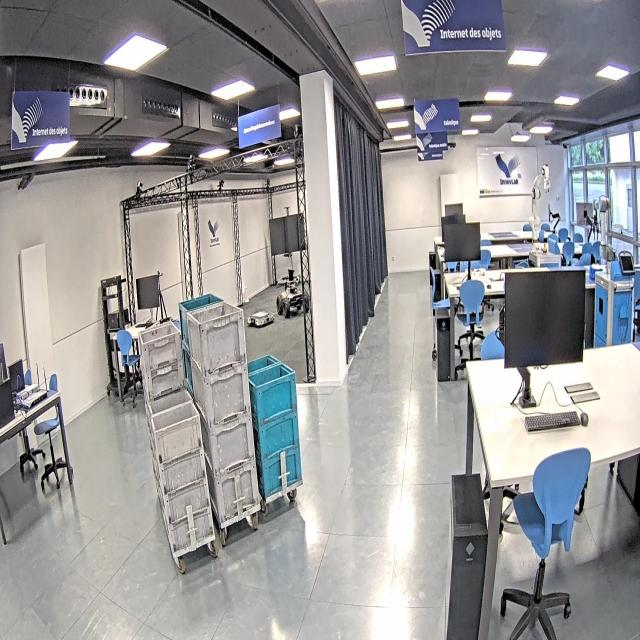Box3G: (138, 319, 196, 498)
Box4G: (187, 300, 260, 524)
Box8G: (147, 390, 215, 555)
BoxB4: (177, 292, 226, 516)
BoxB8: (241, 351, 303, 499)
